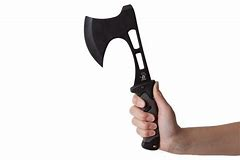axe: (82, 3, 166, 152)
